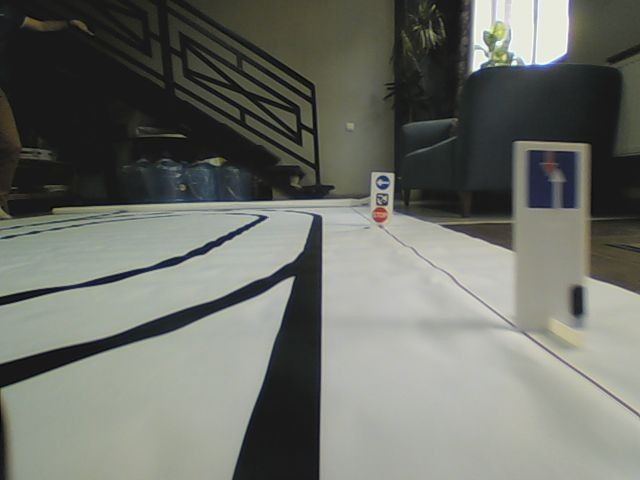Stop: (371, 207, 389, 223)
priority_movement: (524, 148, 582, 209)
